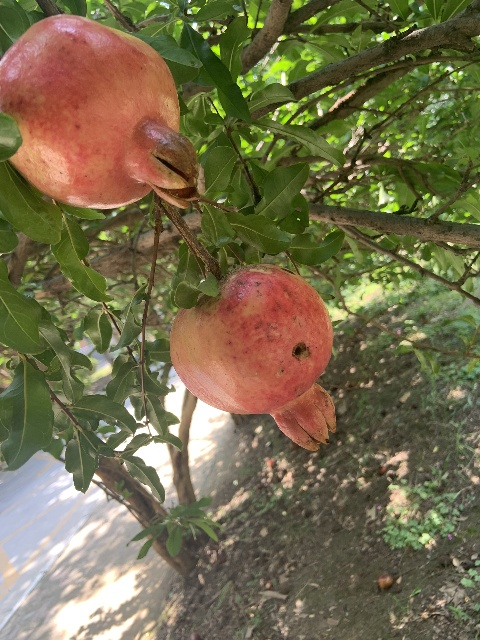ripe: (0, 14, 205, 209), (169, 264, 336, 450)
